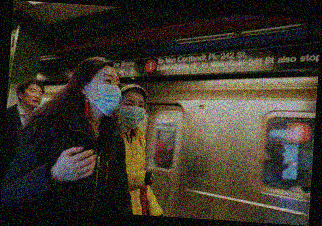with_mask: (88, 72, 123, 117), (118, 99, 147, 131)
without_mask: (24, 86, 44, 107)
